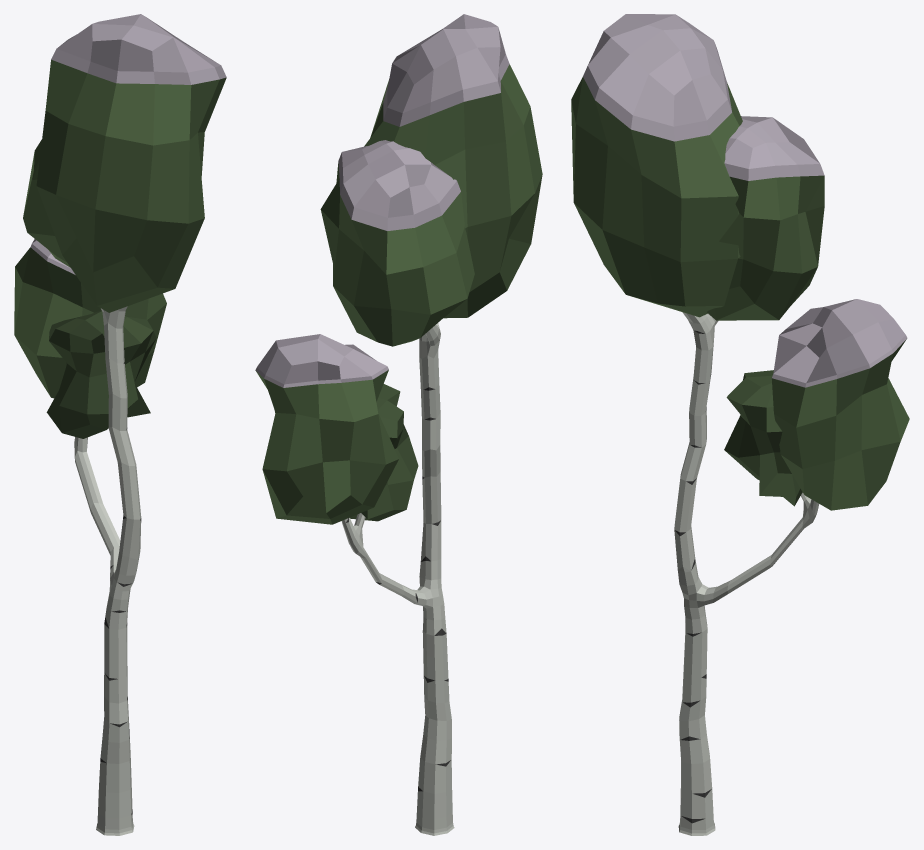
File: BirchTree_Snow_5.gltf
The picture shows the model from 3 angles, left to right: view 1: azimuth 30°, elevation 25°; view 2: azimuth 150°, elevation 25°; view 3: azimuth 270°, elevation 25°; orthographic projection. The views are drawn at different scales.
Visible parts, largest first — view 1: BirchTree_Snow_5; view 2: BirchTree_Snow_5; view 3: BirchTree_Snow_5.
Part boxes in pixels (left/top/right/bottom): BirchTree_Snow_5: left=14, top=14, right=226, bottom=835; BirchTree_Snow_5: left=255, top=14, right=542, bottom=835; BirchTree_Snow_5: left=571, top=14, right=909, bottom=835.
Bounding box in the file's own units: 1.19 × 5.06 × 1.93.
